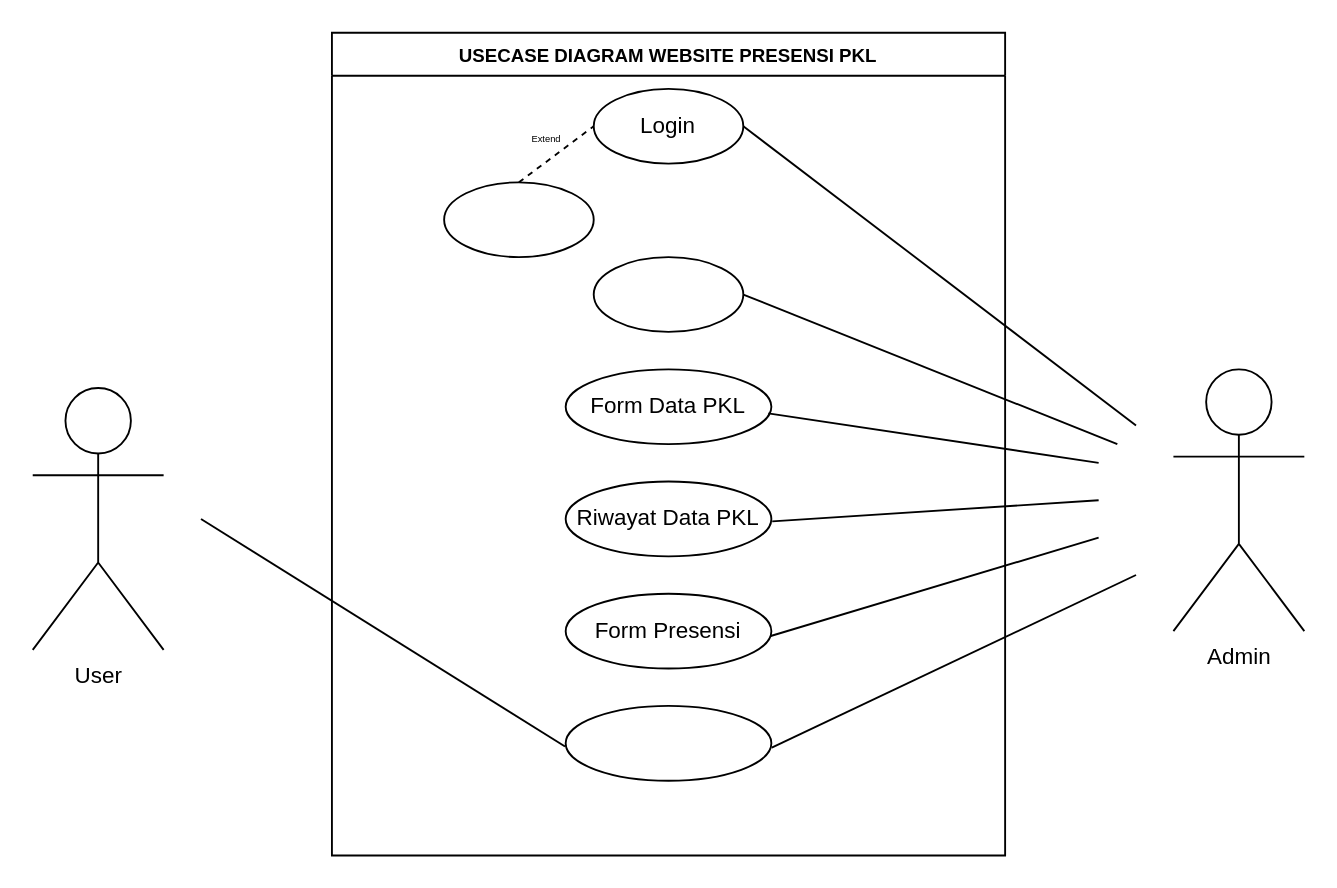
Image size: 1337x888. Some labels were removed from this diagram. The centre of each missing label's shape, as x and y in pixels:
"Logout" belongs at (667,293).
"Riwayat Presensi" belongs at (667,742).
"Verifikasi" belongs at (518,218).
